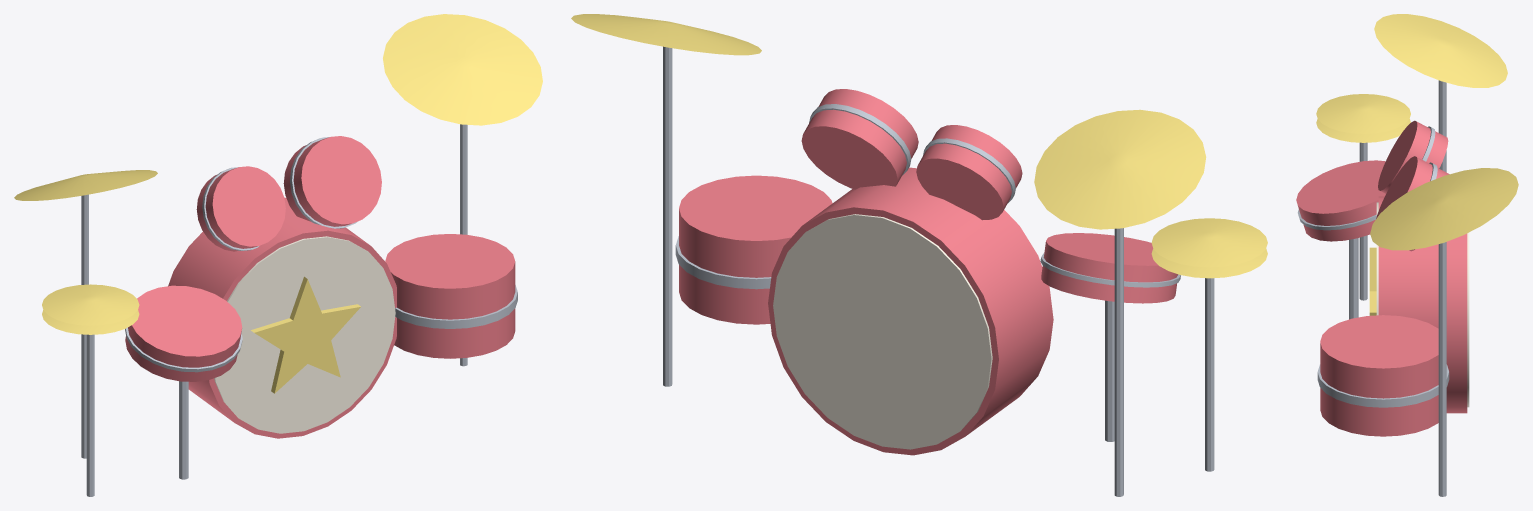
File: drums.glb
3 views of the same model, side by side, from view 1: azimuth 30°, elevation 25°; view 2: azimuth 150°, elevation 25°; view 3: azimuth 270°, elevation 25° (orthographic). The views are drawn at different scales.
Visible parts, largest first — view 1: drums; view 2: drums; view 3: drums.
Part boxes in pixels (x1,y1,x2,y2): drums: (14, 14, 542, 496); drums: (571, 14, 1267, 496); drums: (1296, 14, 1518, 496).
Bounding box in the file's own units: 2.99 × 1.73 × 1.13.
